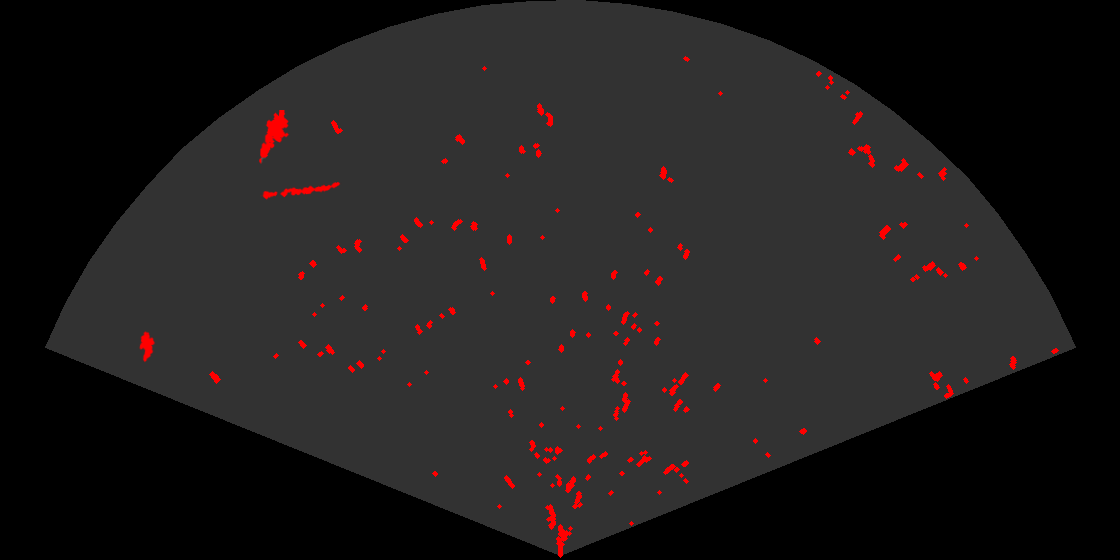AUV: (138, 330, 157, 364)
chain: (260, 180, 342, 201)
frogman: (258, 110, 291, 164)
